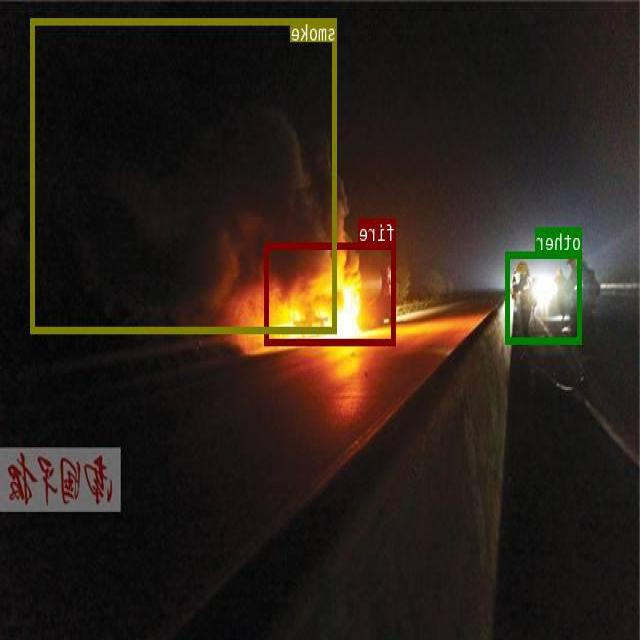fire: (266, 242, 396, 345)
other: (507, 251, 582, 343)
smoke: (31, 17, 338, 332)
